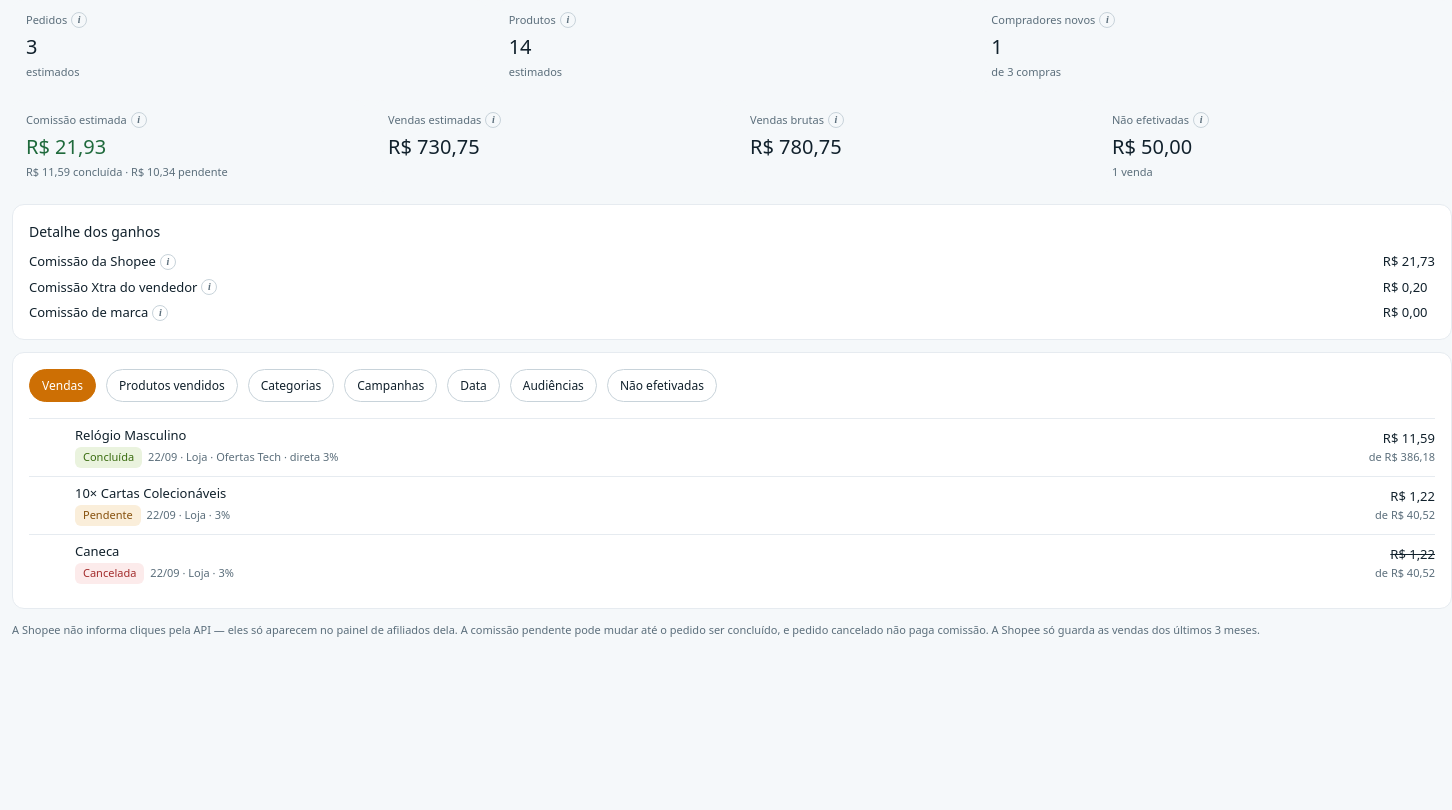
DesempenhoShopee — abas › categorias: uma linha por categoria, com a coluna Comissão
Click the button "Categorias" at (291, 385), box [248,368,334,402]
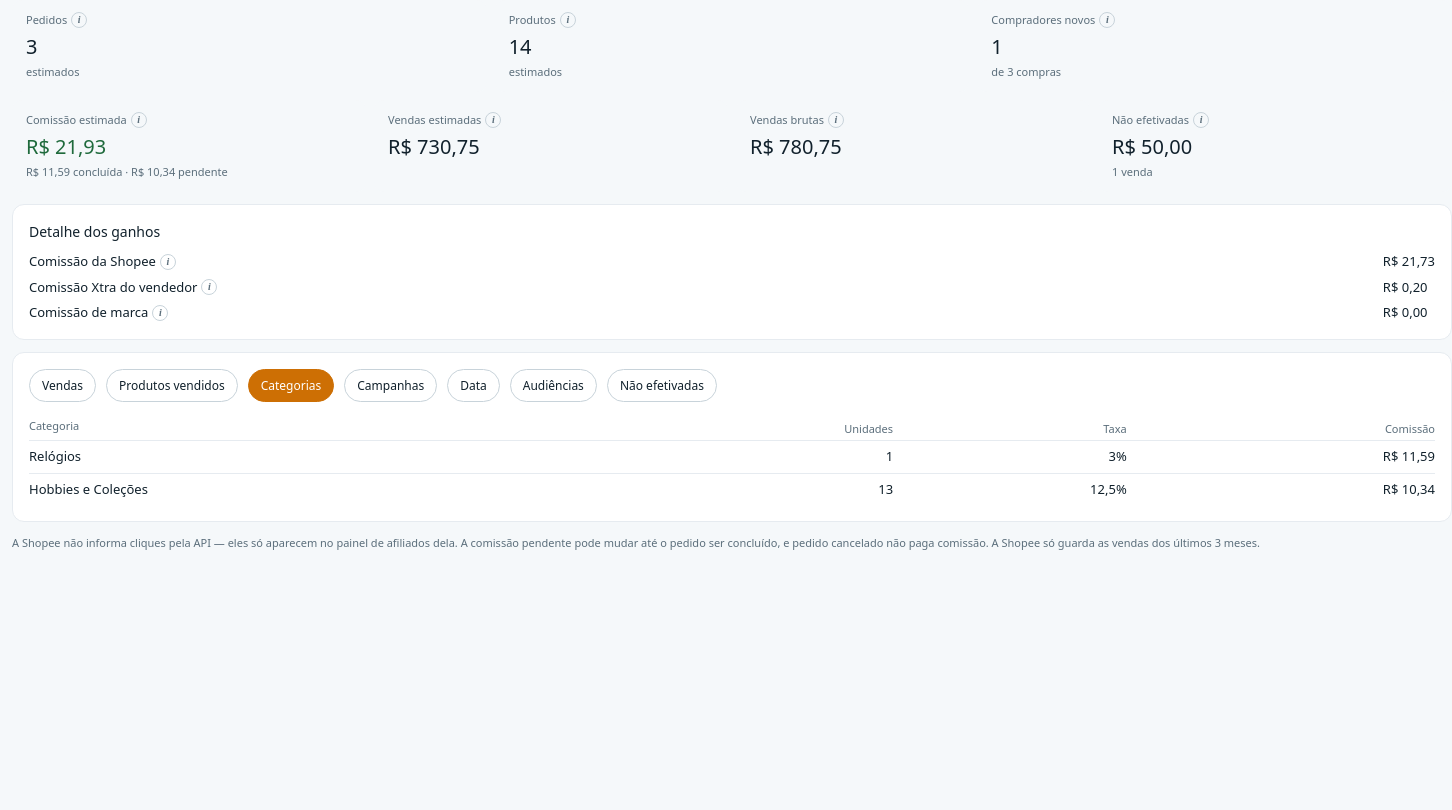
expect the column heading "Comissão" is shown: met, box [1127,418,1435,440]
expect the text "13" is shown: met, box [601,473,893,505]
expect the text "12,5%" is shown: met, box [893,473,1127,505]
